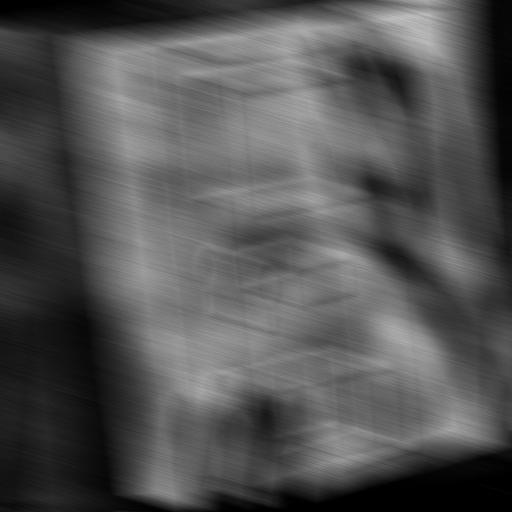bottom_left: (476, 430, 497, 443)
door: (168, 17, 418, 499)
top_left: (447, 0, 470, 5)
top_right: (71, 36, 94, 52)
